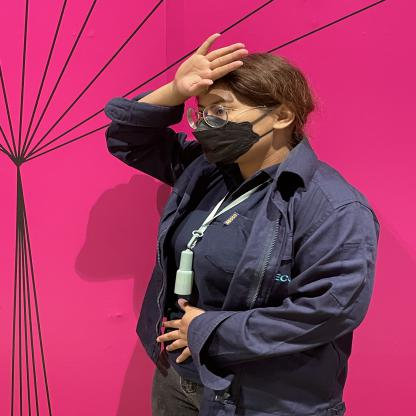Sick: (122, 17, 273, 100)
